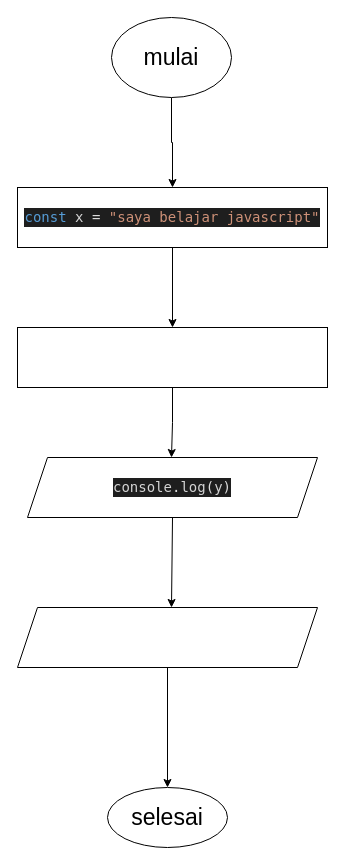
The diagram is 345 pixels wide and 865 high, and some of its shapes have lost their labels. The shapes that lost their labels are listed below. From the top down, each one's centre as x and y in pixels, then its label:
the point at 172,357: const y = x . split ( " " ). reverse (). join ( " " );
the point at 167,637: javascript belajar saya
